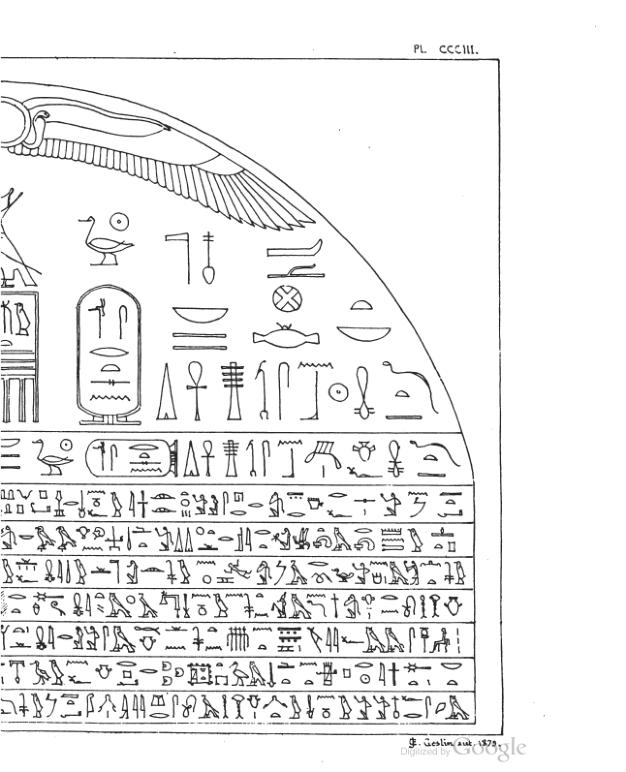circle: (73, 280, 146, 427), (79, 434, 183, 482)
